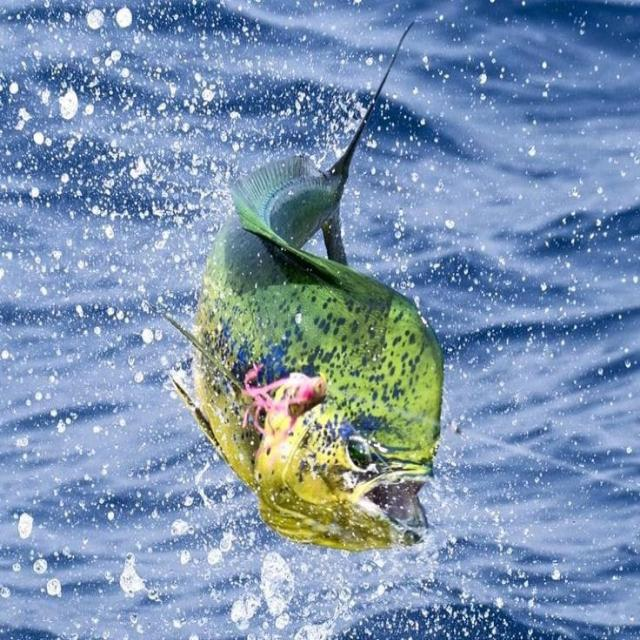Dolphin Mahi Mahi: (143, 17, 447, 556)
